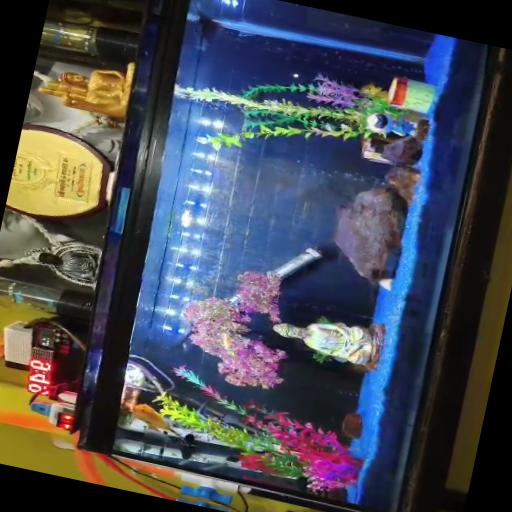Fish: (133, 404, 195, 459), (134, 404, 187, 443)
